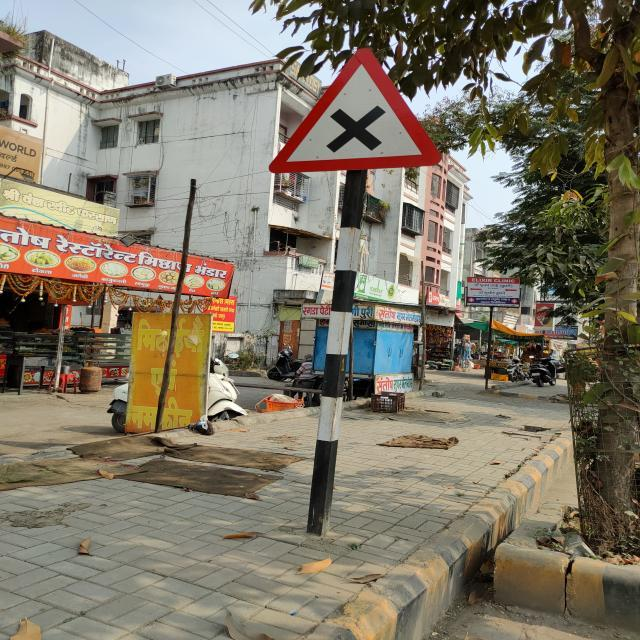cross road: (264, 43, 445, 178)
